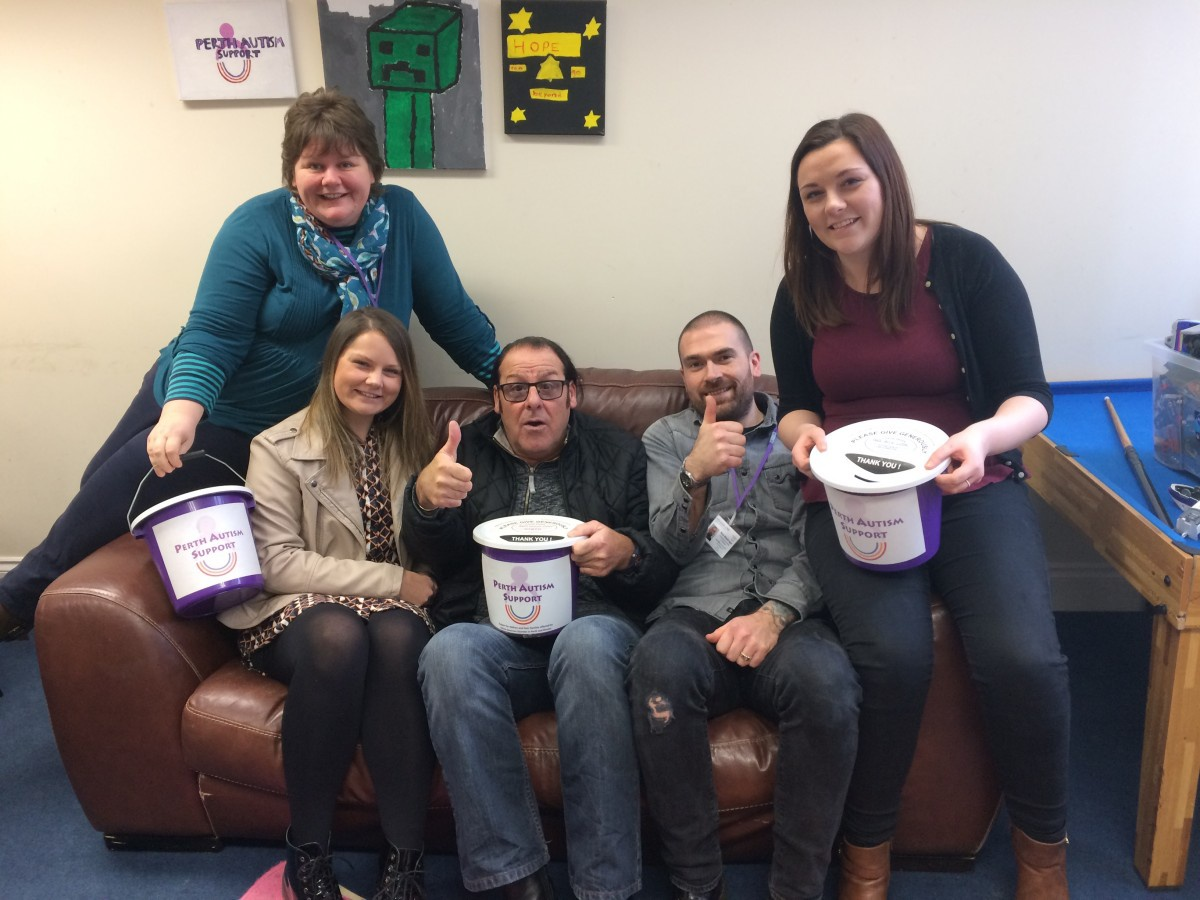bad: (792, 166, 882, 255), (494, 370, 569, 445), (295, 146, 370, 221), (337, 337, 411, 412), (677, 337, 751, 412)
